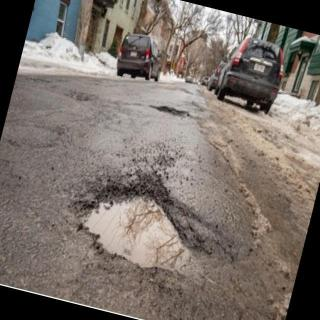pothole: (70, 185, 219, 276), (151, 104, 186, 116)
